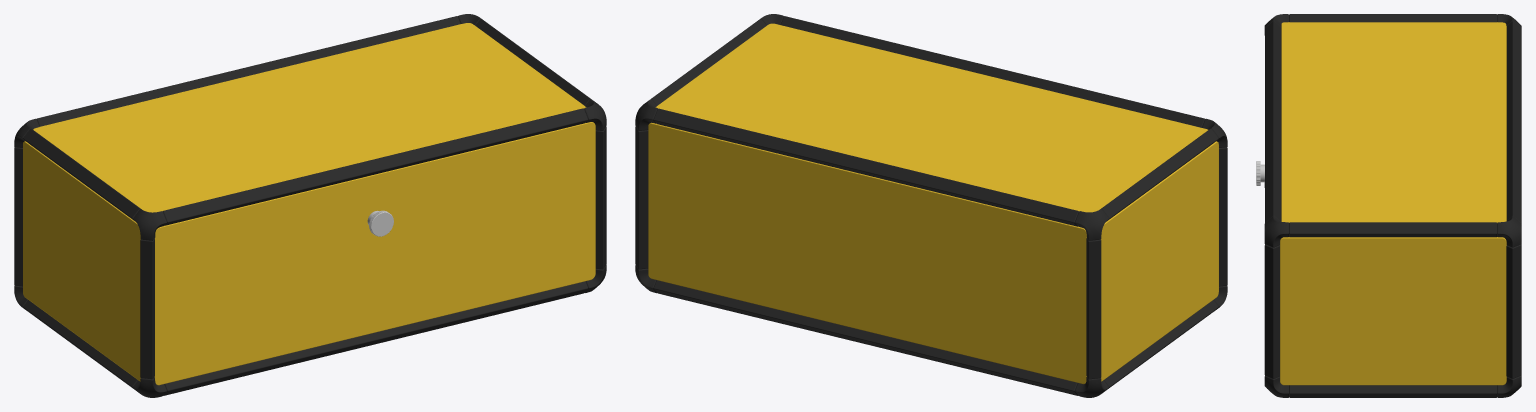
3 renders of one model, left to right at view 1: azimuth 30°, elevation 25°; view 2: azimuth 150°, elevation 25°; view 3: azimuth 270°, elevation 25°, orthographic. The views are drawn at different scales.
Parts seen in each view (by area): view 1: 729x329x229; view 2: 729x329x229; view 3: 729x329x229.
Boxes of the visible parts, x1,y1,x2,y2 form: 729x329x229: (14,14,606,397); 729x329x229: (635,14,1227,397); 729x329x229: (1256,14,1521,397).
Bounding box in the file's own units: 0.8067 × 0.3066 × 0.4196.
